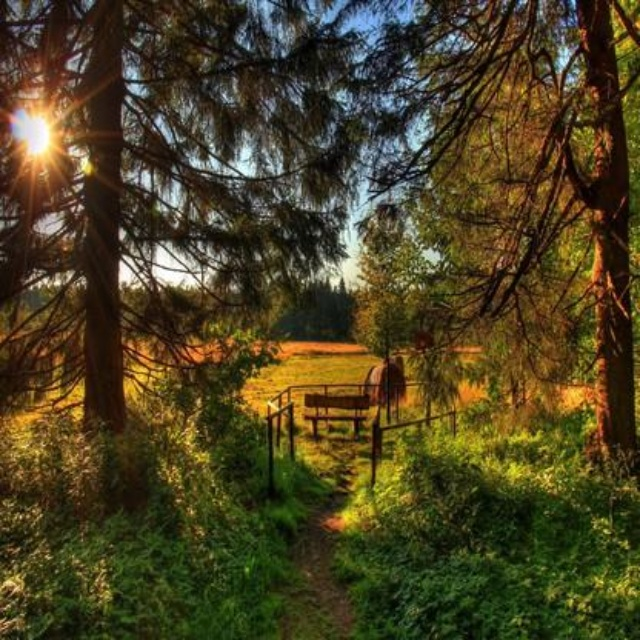obstacle: (295, 380, 378, 449)
